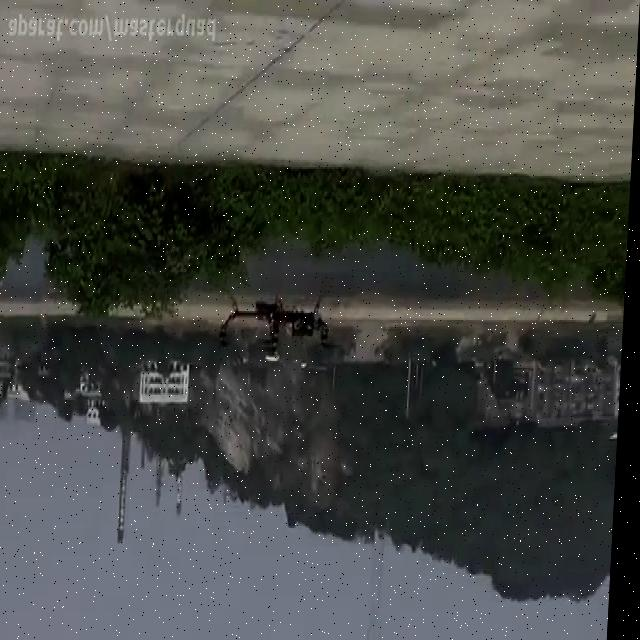drone: (215, 293, 350, 371)
